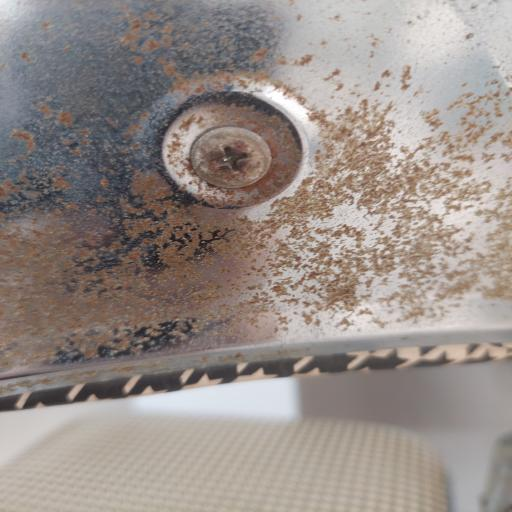Phillips: (188, 123, 274, 195)
